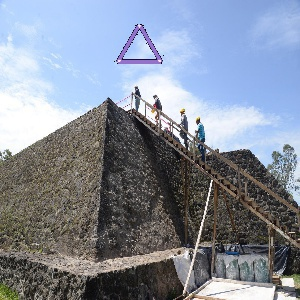triangle: (114, 21, 166, 69)
